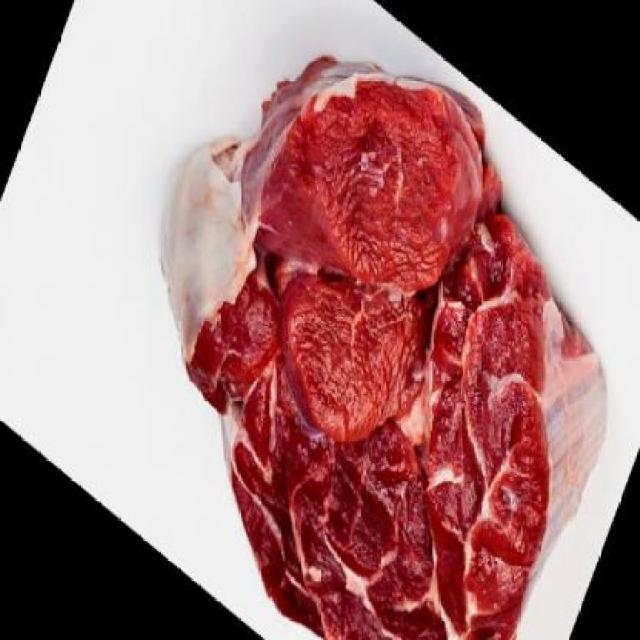beef: (192, 53, 597, 640)
